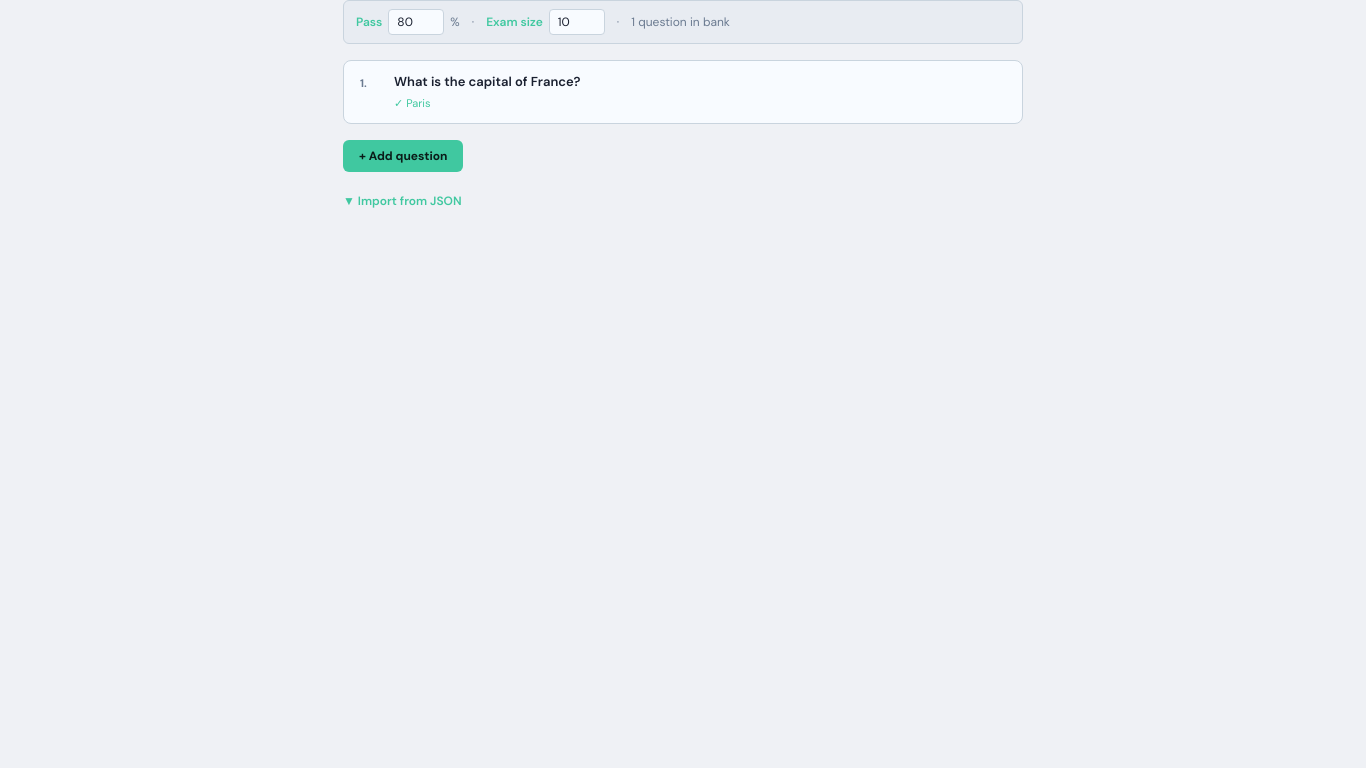
Scenario: AssessmentEditor AlertDialog delete flow › clicking Delete button in inspector opens the AlertDialog with 'Delete question?' title
Open inspector by clicking the question card
Click the button "1. What is the capital of France? ✓ Paris".
click(487, 82)  # box [343,60,1023,124]
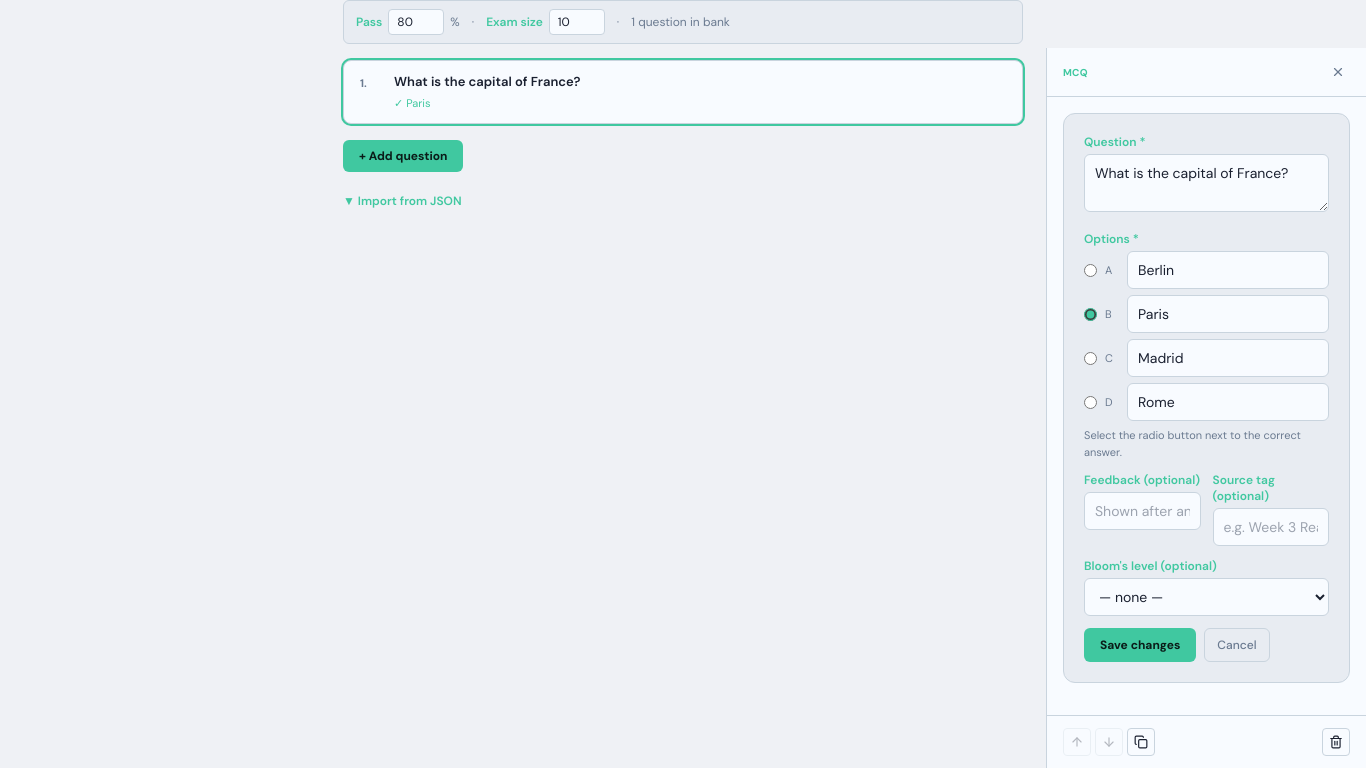
Click the trash/Delete button in the inspector footer
Click the button named "delete question".
click(1336, 742)  # box [1322,728,1350,756]
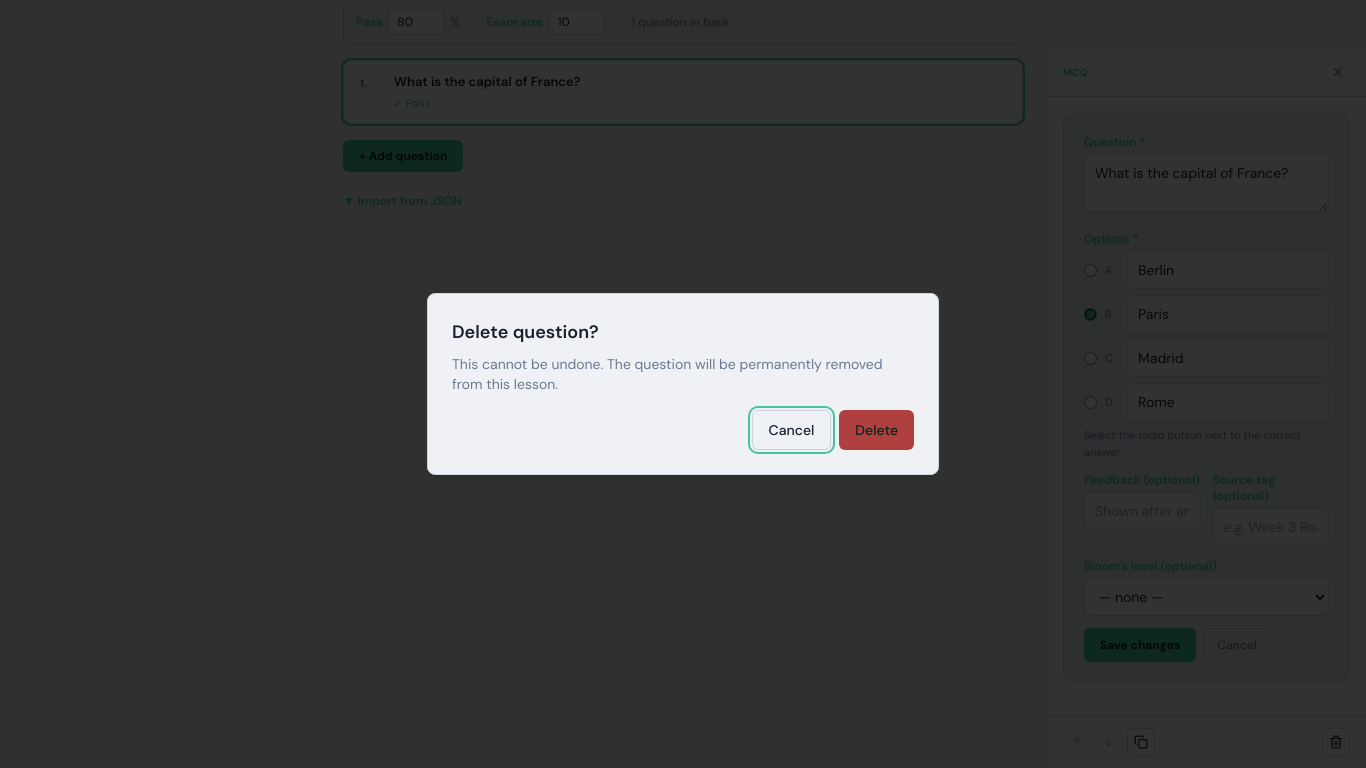
Expected: the heading "Delete question?" is shown, [452,320,599,344]
Expected: the text "This cannot be undone" is shown, [452,355,883,393]
